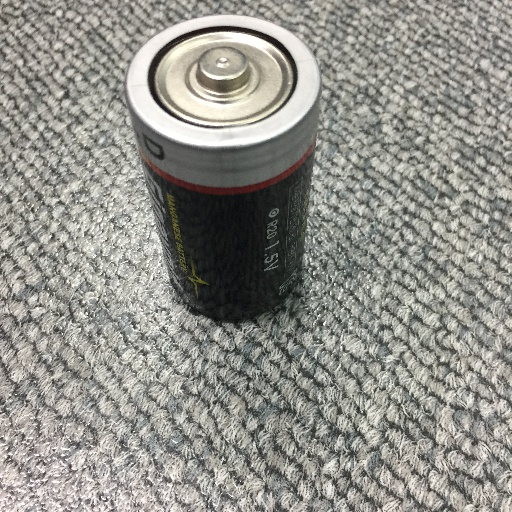Battery_0: (117, 6, 337, 335)
